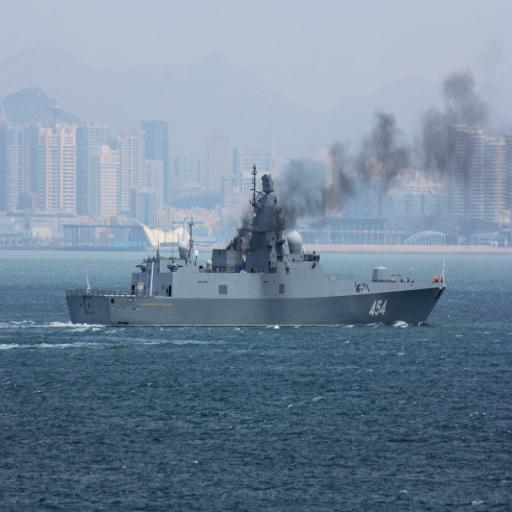Fragata: (64, 159, 448, 332)
